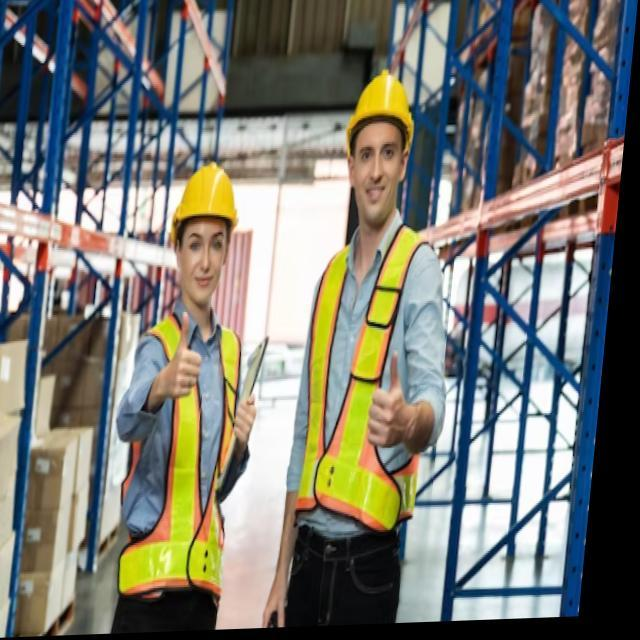helmet: (160, 154, 247, 305), (337, 68, 423, 212)
vest: (277, 220, 443, 550), (110, 299, 255, 605)
